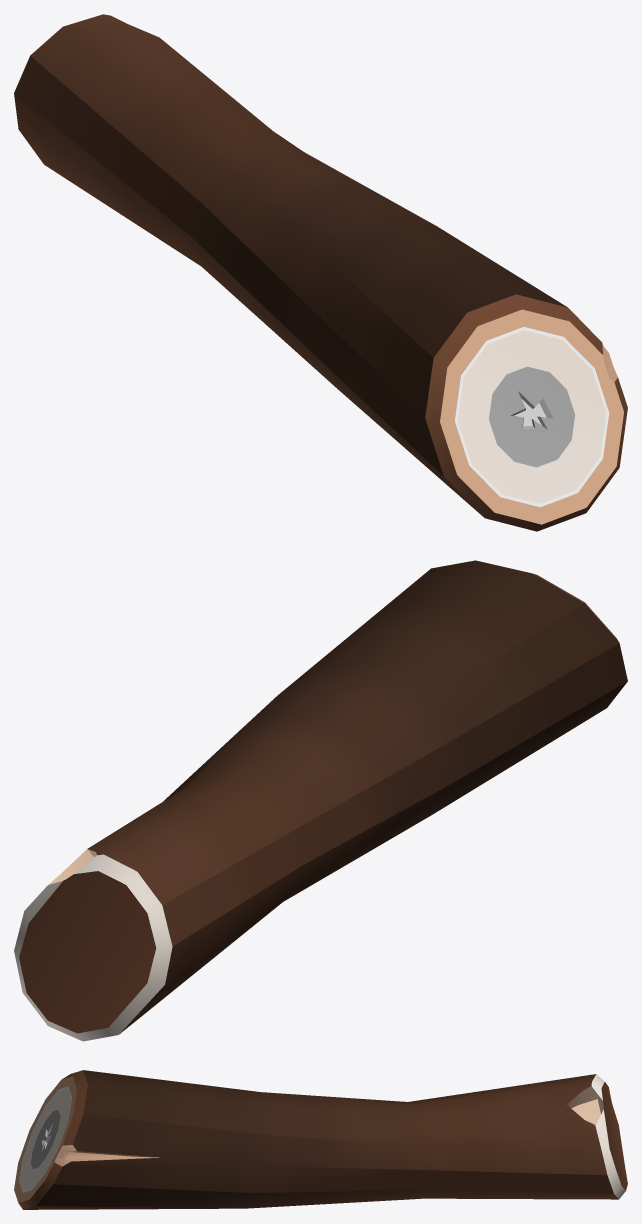
File: odun.fbx
The picture shows the model from 3 angles, top to bottom: view 1: azimuth 30°, elevation 25°; view 2: azimuth 150°, elevation 25°; view 3: azimuth 270°, elevation 25°; orthographic projection. The views are drawn at different scales.
Parts seen in each view (by area): view 1: odun; view 2: odun; view 3: odun.
Part boxes in pixels (bbox=[...]): odun: bbox=[14, 14, 627, 531]; odun: bbox=[14, 560, 627, 1041]; odun: bbox=[14, 1070, 627, 1209].
Size of the model in its own units: 95.49 by 84.99 by 391.
